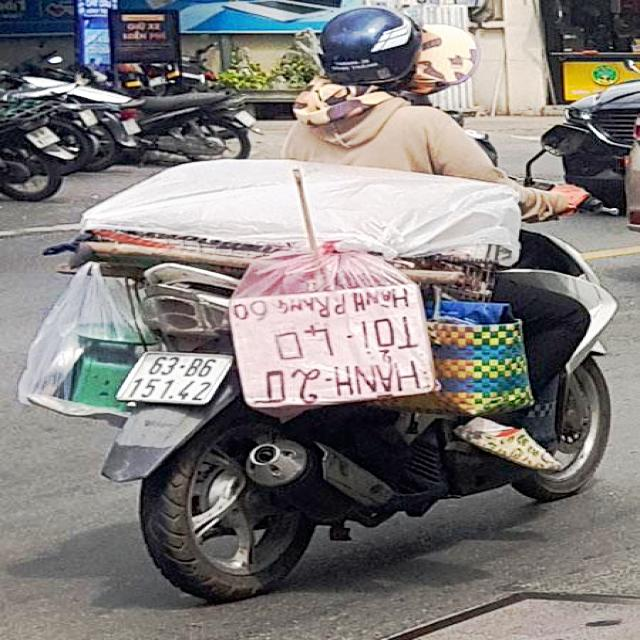license_plate: (119, 354, 235, 405)
